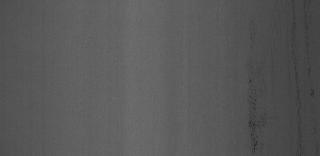inclusion: (242, 60, 268, 148)
water spot: (288, 10, 304, 146)
